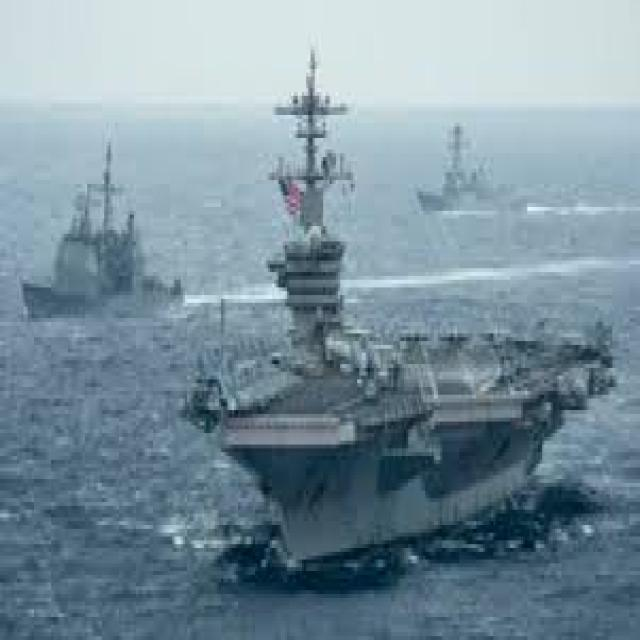navalvessels: (186, 89, 611, 567), (13, 165, 176, 322), (406, 117, 528, 226)
